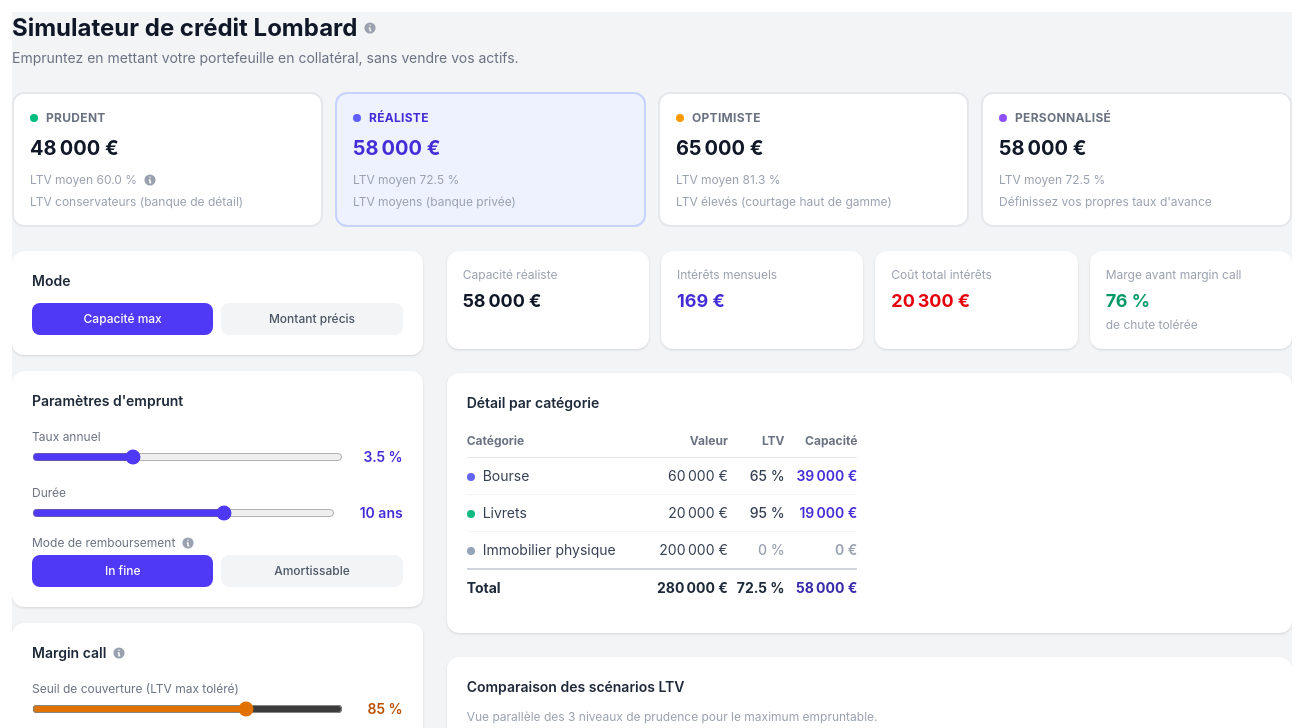
LombardSimulatorPage › change de scénario LTV au clic
# Le premier "Optimiste" est le bouton de la bannière
Click the text "Optimiste" at (726,118), box [692, 110, 761, 126]
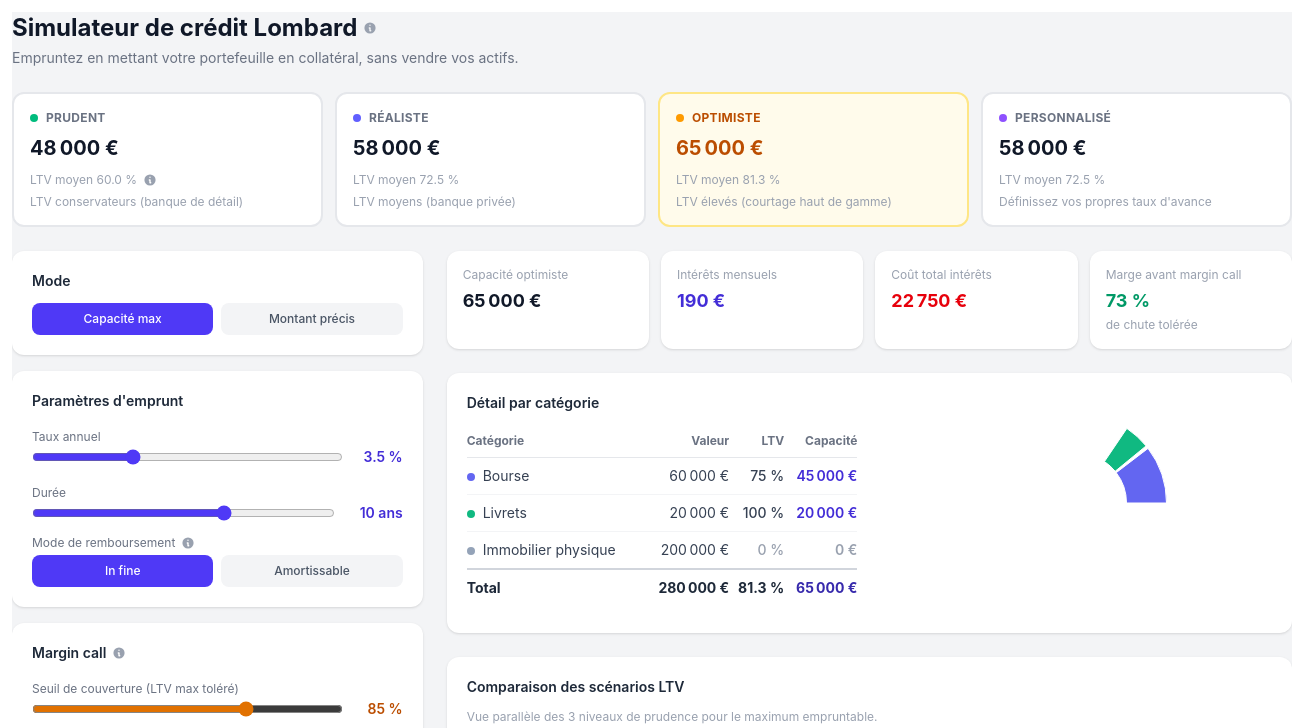
Now the text "Capacité optimiste" is shown, box [463, 267, 568, 282]
